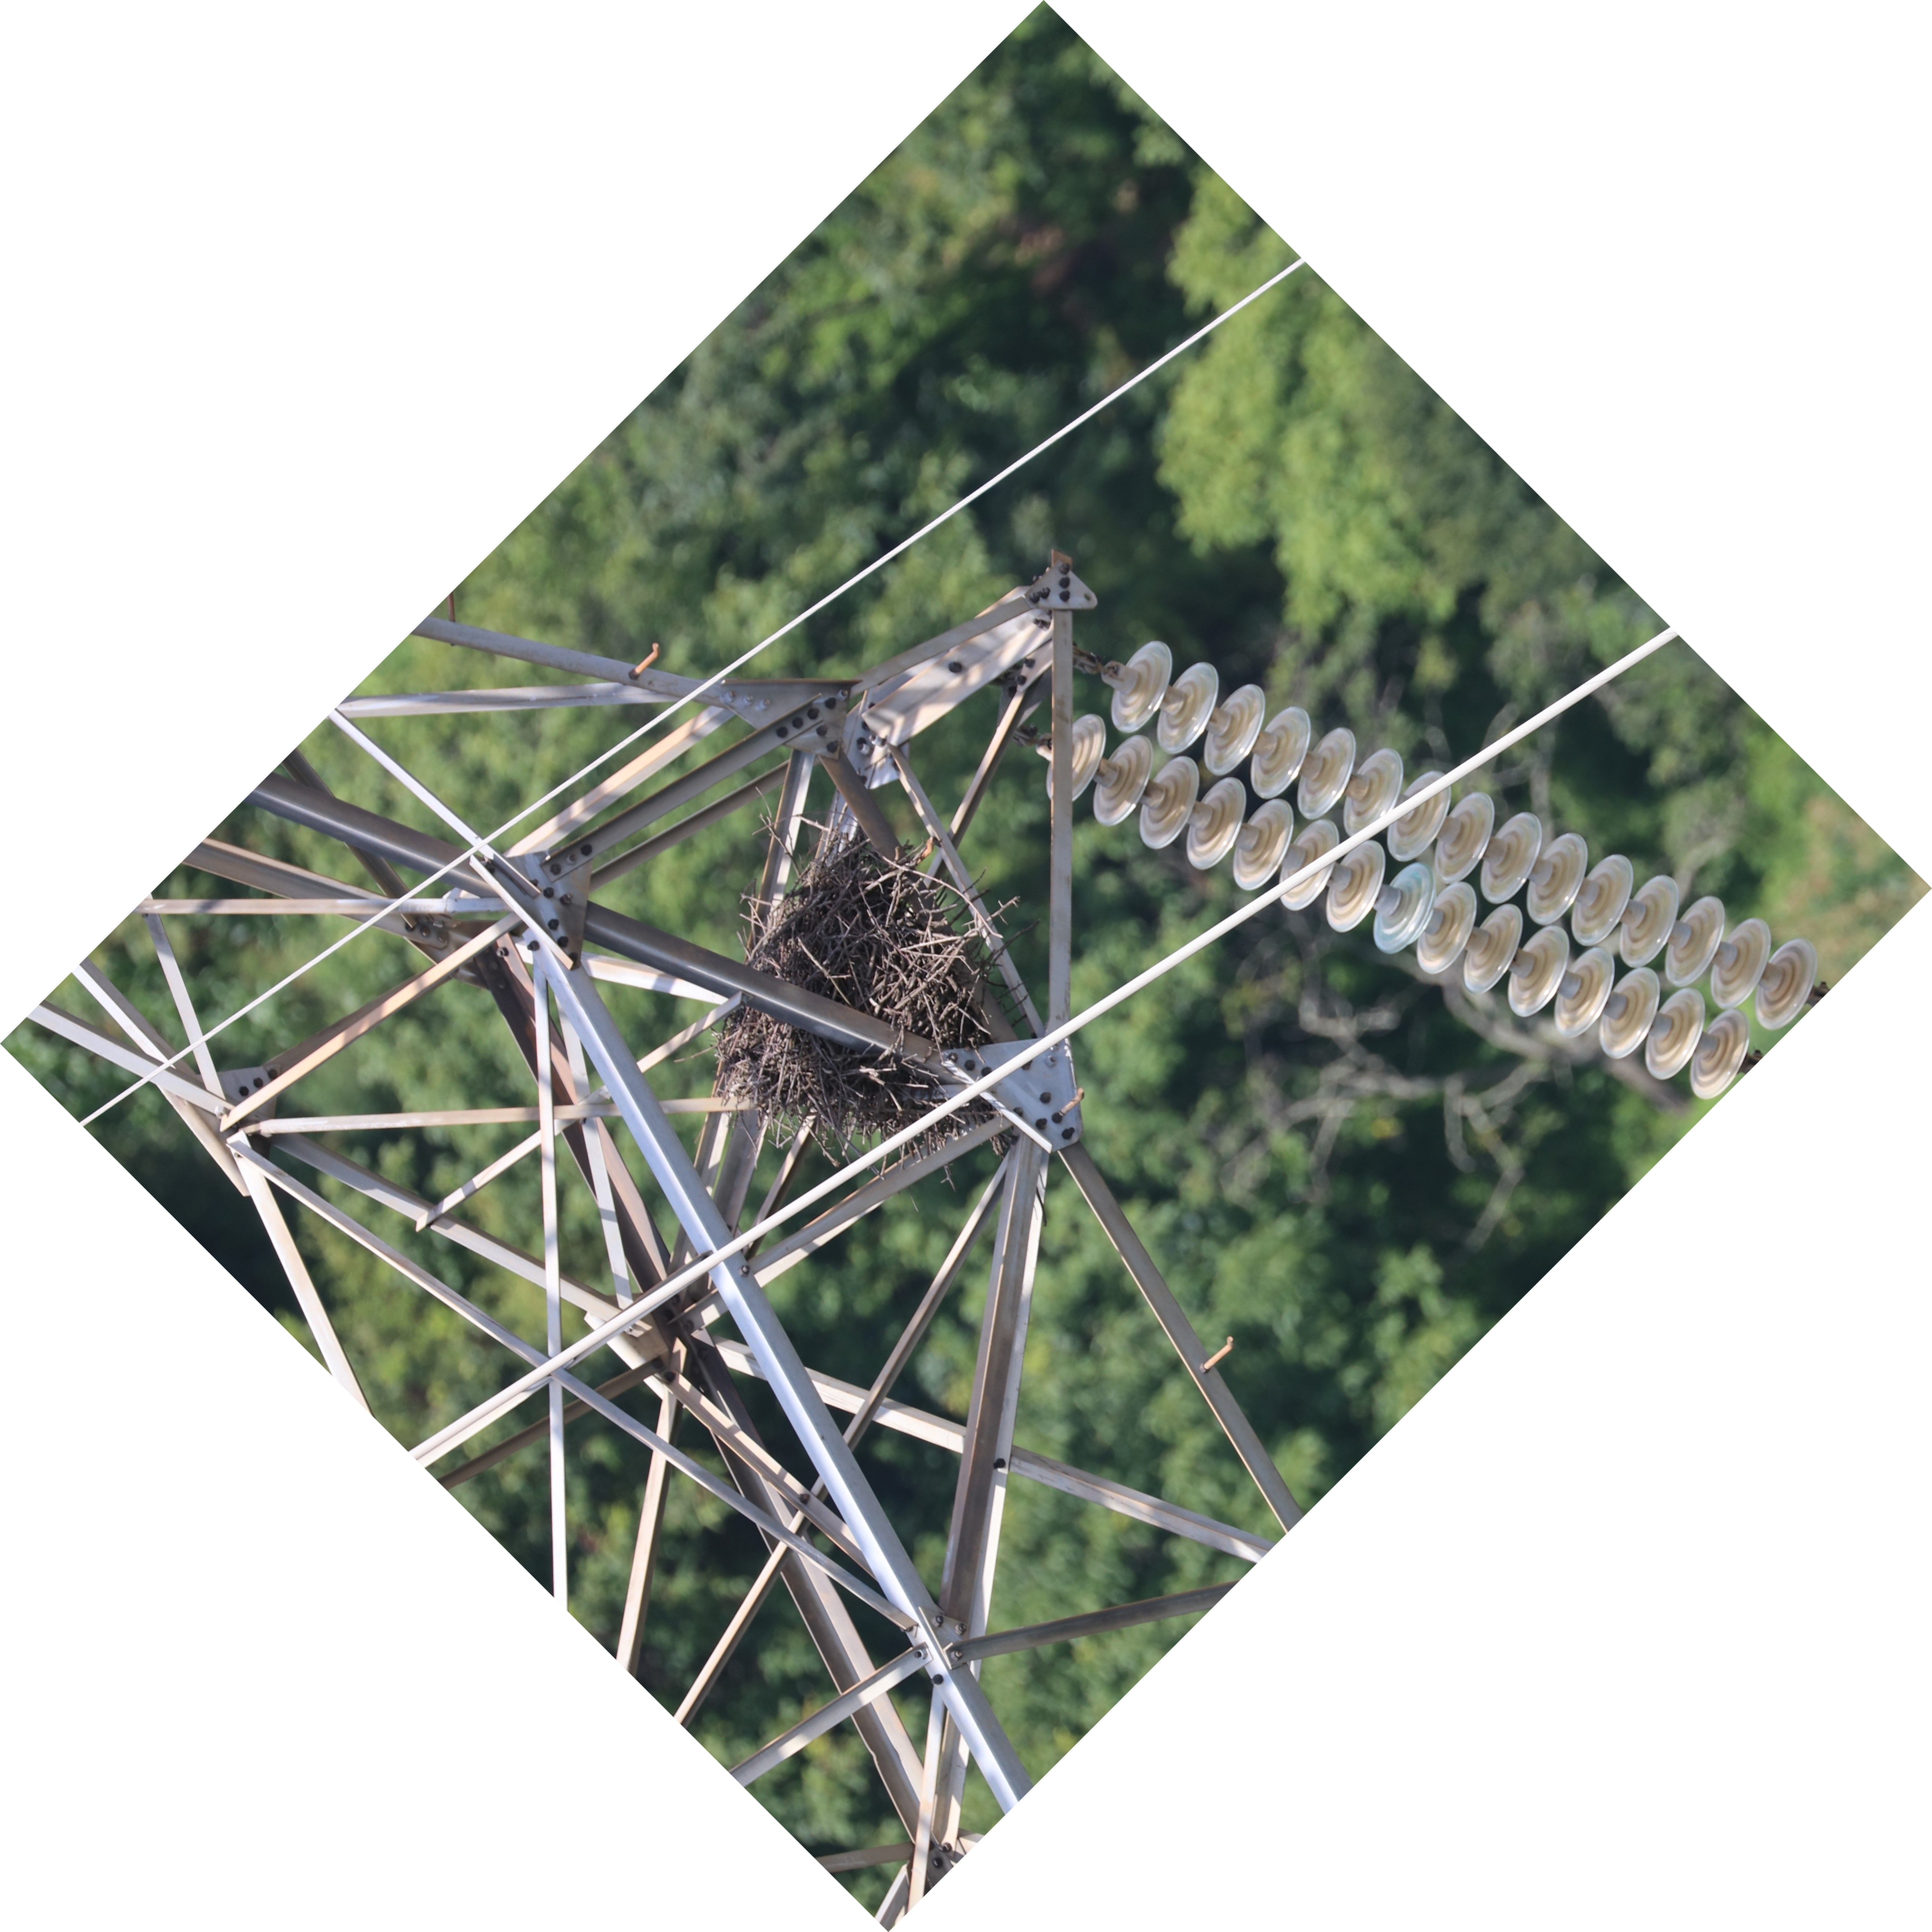niaowo: (679, 833, 1028, 1169)
